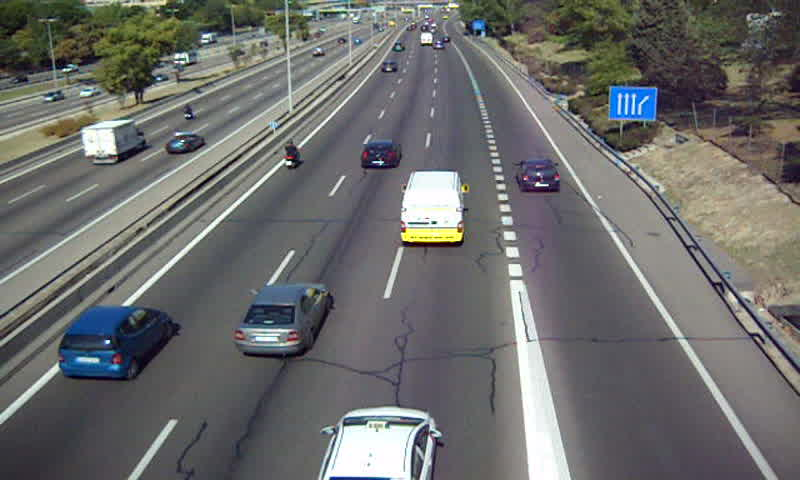car: (317, 408, 437, 480), (57, 307, 171, 379), (235, 284, 332, 355), (515, 158, 564, 194), (360, 141, 402, 168), (379, 61, 399, 75)
motorcycle: (281, 140, 299, 172)
van: (401, 171, 463, 243)
